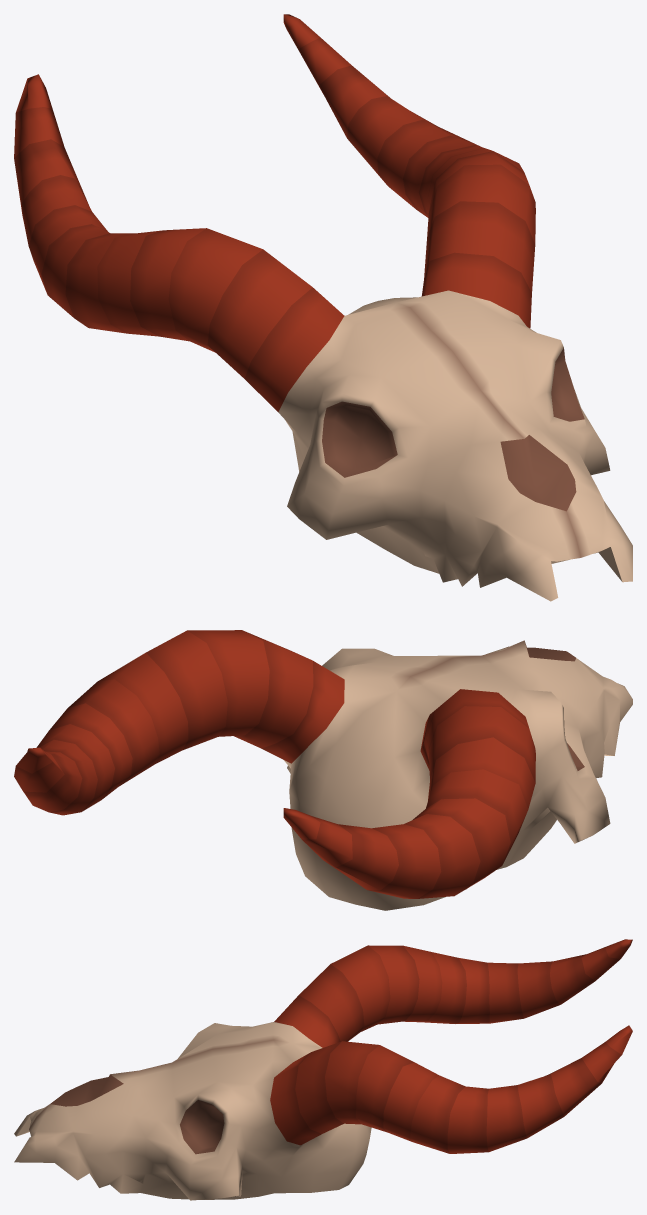
Rendered from BR_Skull_01.fbx.
3 renders of one model, top to bottom at view 1: azimuth 30°, elevation 25°; view 2: azimuth 150°, elevation 25°; view 3: azimuth 270°, elevation 25°, orthographic. The views are drawn at different scales.
Visible parts, largest first — view 1: BR_Skull_01; view 2: BR_Skull_01; view 3: BR_Skull_01.
Boxes of the visible parts, box(x1,y1,x2,y2) form: BR_Skull_01: box(14, 14, 632, 601); BR_Skull_01: box(14, 630, 632, 910); BR_Skull_01: box(14, 939, 632, 1200).
Size of the model in its own units: 110 by 63.51 by 185.
